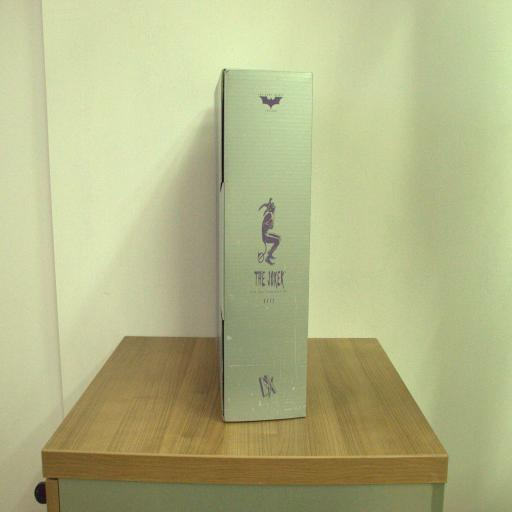Joker: (212, 66, 314, 420)
